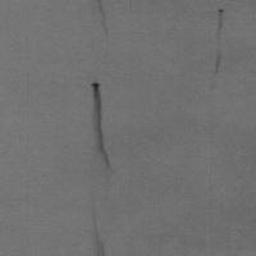Inclusion: (91, 82, 115, 170), (212, 8, 225, 77), (90, 200, 106, 256), (97, 0, 109, 32)
